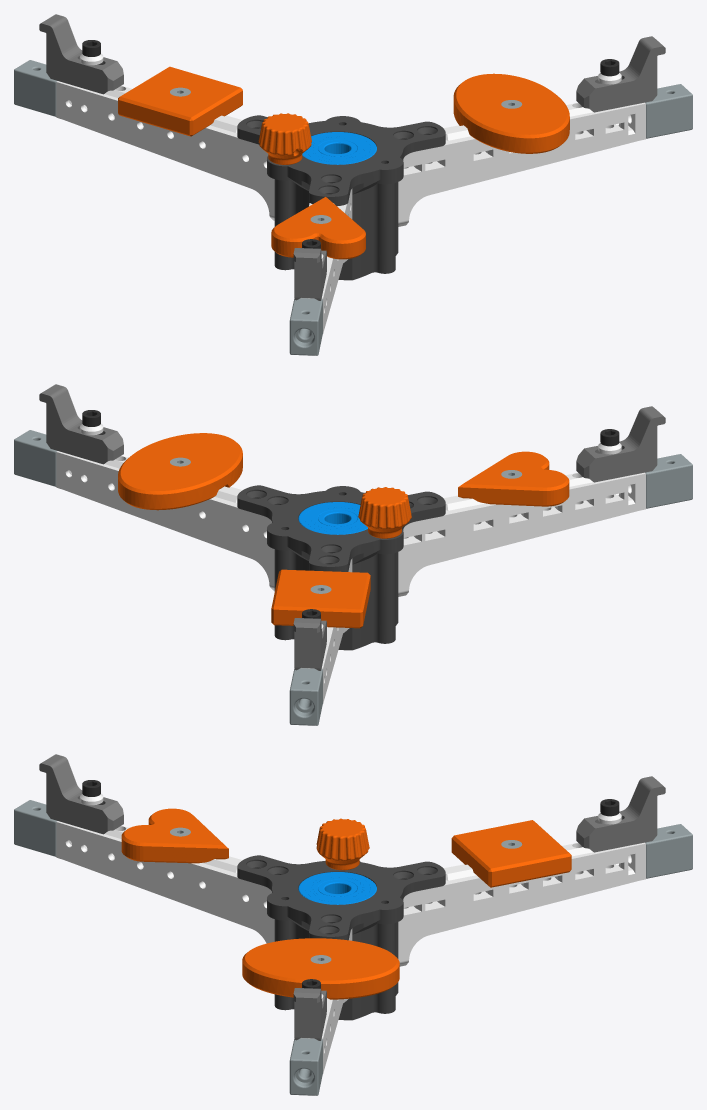
The model's file is Half_Fixture.obj.
3 views of the same model, one above another, from view 1: azimuth 30°, elevation 25°; view 2: azimuth 150°, elevation 25°; view 3: azimuth 270°, elevation 25° (orthographic).
Visible parts, largest first — view 1: SOLID, STANGE_003, STANGE_004, COMPOUND011, COMPOUND010, COMPOUND009, COMPOUND003, COMPOUND006, GRIFF_klein_01, SOLID003, 6200-2RS_\X2\2014\X0\_10mm_ID_\X\D7_30mm_OD_\X\D7_9mm_W005, SOLID005 (+3 smaller); view 2: SOLID, STANGE_02, STANGE_003, COMPOUND011, COMPOUND010, COMPOUND009, COMPOUND, COMPOUND003, GRIFF_klein_01, SOLID001, SOLID003, SOLID005 (+3 smaller); view 3: SOLID, STANGE_004, STANGE_02, COMPOUND011, COMPOUND010, COMPOUND009, COMPOUND006, COMPOUND, GRIFF_klein_01, SOLID005, 6200-2RS_\X2\2014\X0\_10mm_ID_\X\D7_30mm_OD_\X\D7_9mm_W005, SOLID001 (+3 smaller).
Part boxes in pixels (x1,y1,x2,y2): SOLID: (237,115,445,280); STANGE_003: (398,102,645,226); STANGE_004: (56,81,274,220); COMPOUND011: (453,73,569,153); COMPOUND010: (118,66,242,136); COMPOUND009: (271,197,365,259); COMPOUND003: (576,36,665,112); COMPOUND006: (39,14,123,94); GRIFF_klein_01: (258,113,311,164); SOLID003: (645,84,692,138); 6200-2RS_\X2\2014\X0\_10mm_ID_\X\D7_30mm_OD_\X\D7_9mm_W005: (302,132,376,164); SOLID005: (14,60,57,116); SOLID: (237,485,445,650); STANGE_02: (398,472,645,596); STANGE_003: (56,451,274,590); COMPOUND011: (118,433,242,510); COMPOUND010: (271,569,370,628); COMPOUND009: (458,451,569,506); COMPOUND: (576,406,665,482); COMPOUND003: (39,384,123,464); GRIFF_klein_01: (358,487,411,538); SOLID001: (645,454,692,508); SOLID003: (14,430,57,486); SOLID005: (289,668,322,725); SOLID: (237,855,445,1020); STANGE_004: (398,842,645,966); STANGE_02: (56,821,274,943); COMPOUND011: (242,938,399,999); COMPOUND010: (451,820,571,887); COMPOUND009: (121,808,228,863); COMPOUND006: (576,776,665,852); COMPOUND: (39,754,123,834); GRIFF_klein_01: (316,818,369,870); SOLID005: (645,824,692,878); 6200-2RS_\X2\2014\X0\_10mm_ID_\X\D7_30mm_OD_\X\D7_9mm_W005: (298,872,376,904); SOLID001: (14,800,57,856).
Bounding box in the file's own units: 2.35 × 0.634 × 2.58.
